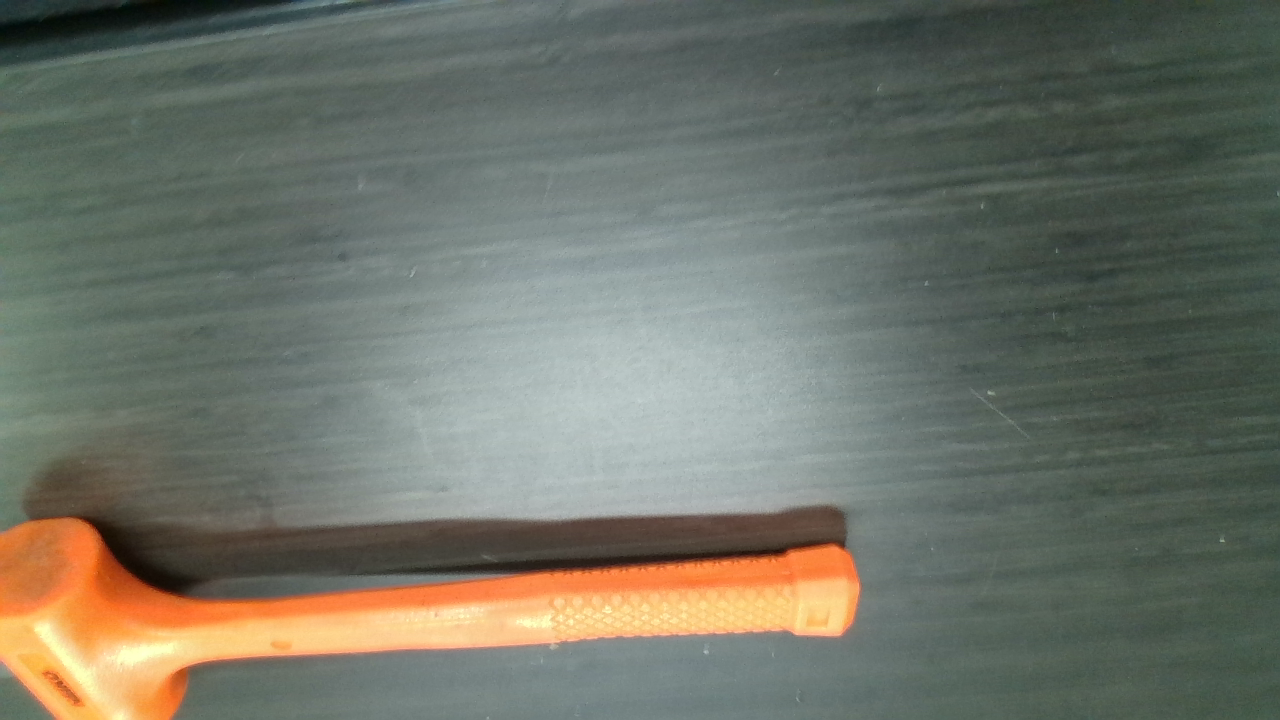Orange Hammer: (5, 517, 857, 716)
